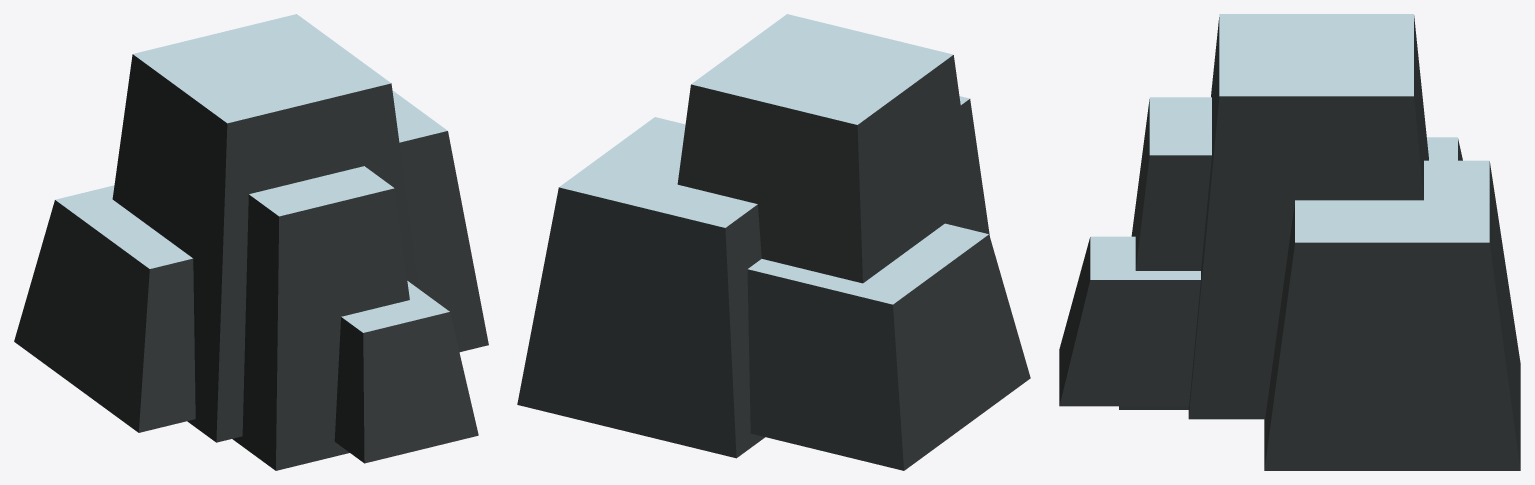
The model's file is SM_Env_Dungeon_Rocks_01_Snow.fbx.
3 views of the same model, side by side, from view 1: azimuth 30°, elevation 25°; view 2: azimuth 150°, elevation 25°; view 3: azimuth 270°, elevation 25° (orthographic). The views are drawn at different scales.
Visible parts, largest first — view 1: SM_Env_Dungeon_Rocks_01_Snow; view 2: SM_Env_Dungeon_Rocks_01_Snow; view 3: SM_Env_Dungeon_Rocks_01_Snow.
Boxes of the visible parts, box(x1,y1,x2,y2) form: SM_Env_Dungeon_Rocks_01_Snow: box(14, 14, 488, 470); SM_Env_Dungeon_Rocks_01_Snow: box(517, 14, 1030, 470); SM_Env_Dungeon_Rocks_01_Snow: box(1059, 14, 1520, 470).
Size of the model in its own units: 59.12 by 48.14 by 62.88.
Materials: 1 (1 with a texture image).
